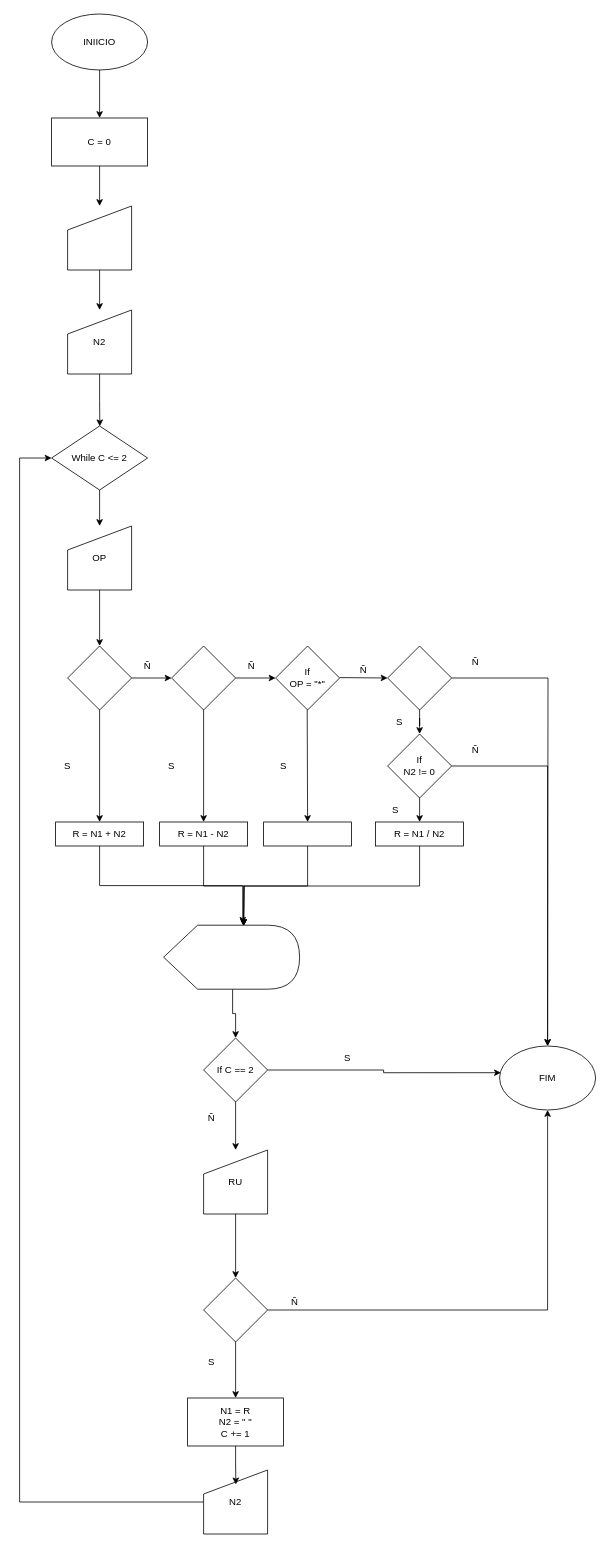
This 610x1548 diagram has some shape labels left out. Here are the shapes that lost their labels. From the top down, the centre of each, then its label:
point 99,237: N1
point 99,677: If OP = "+"
point 203,677: If OP = "-"
point 419,677: If OP = "/"
point 307,833: R = N1 * N2
point 231,956: "R: " + R
point 235,1309: If RU == "S"
